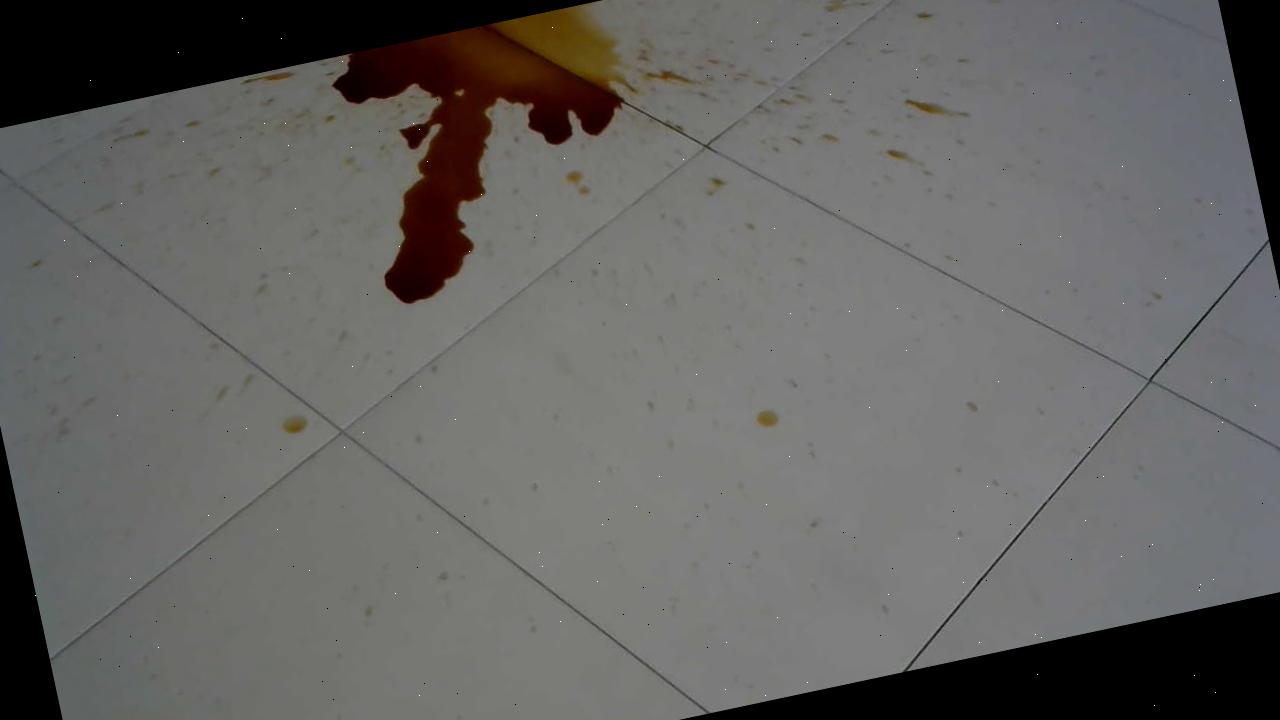dirty_floor: (235, 0, 988, 352)
